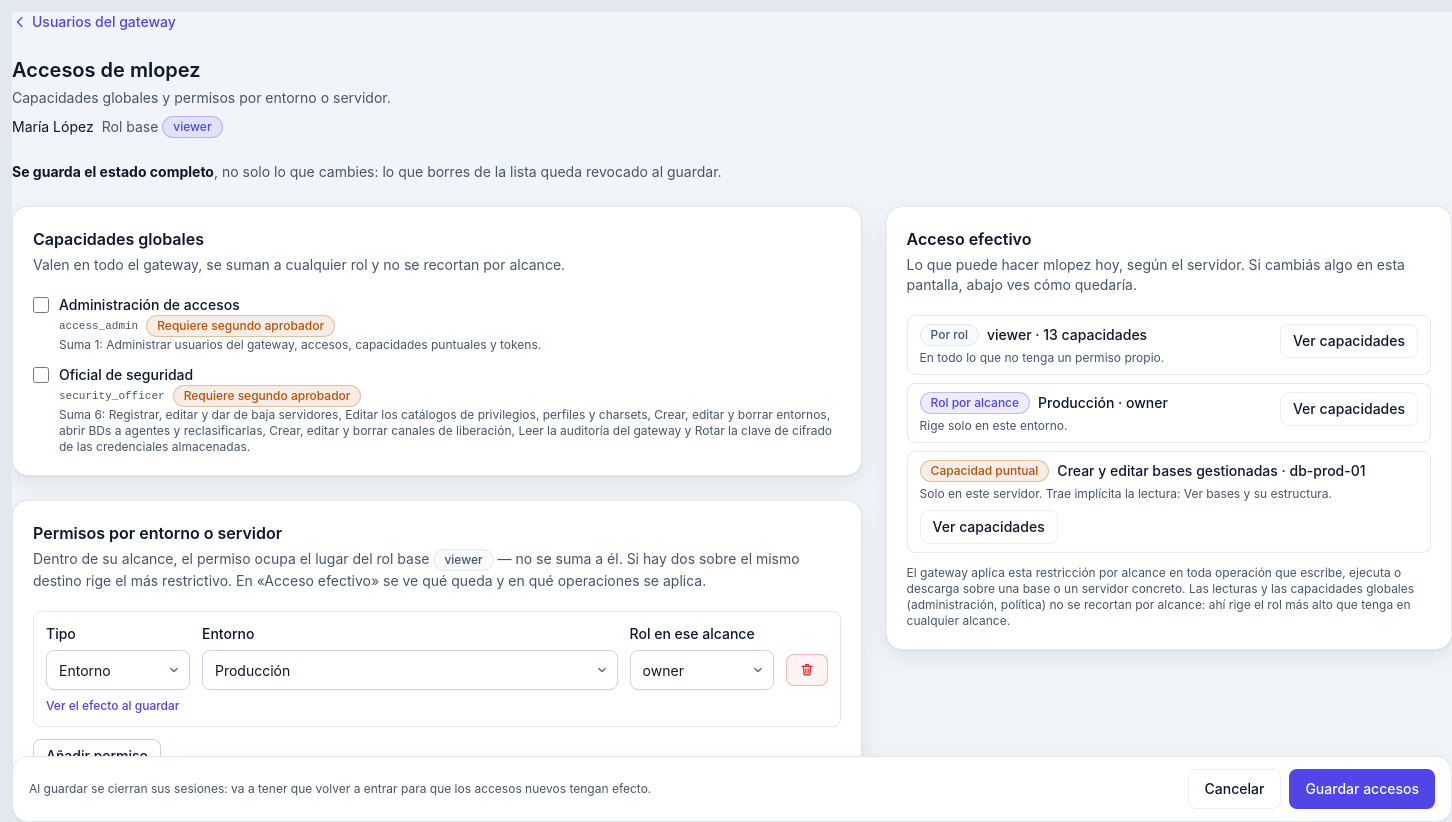
it: GatewayUserAccessPage — separación de funciones › avisa ANTES de guardar si la combinación junta oficial de seguridad con owner
expect the text "Esta combinación viola la separación de funciones" is not shown: met
Step 1. Click the checkbox labelled "Oficial de seguridad" → (41, 375), box x1=33 y1=367 x2=49 y2=383
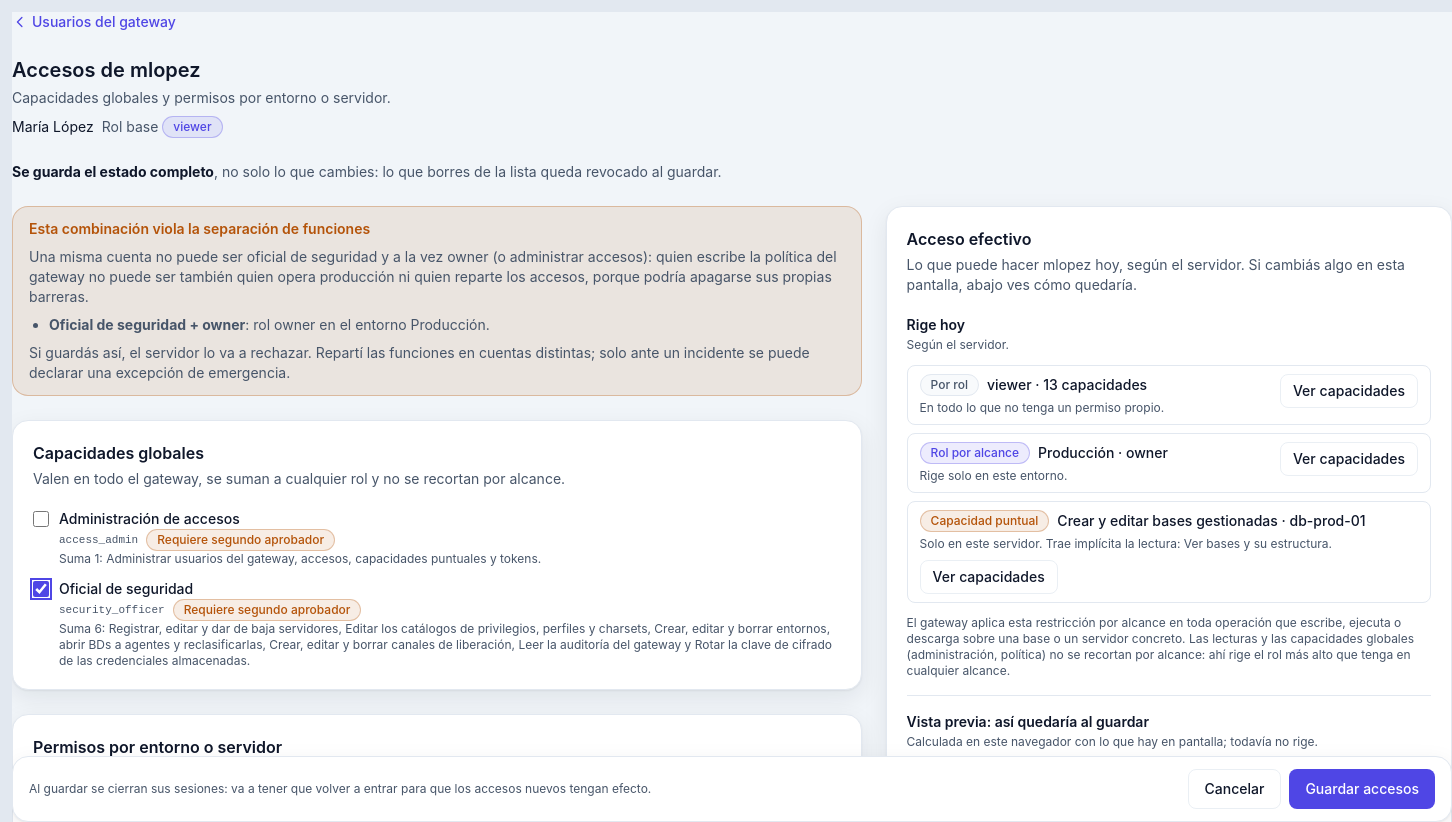
expect the text "Esta combinación viola la separación de funciones" is shown: met, box x1=29 y1=220 x2=370 y2=237
expect the list item "rol owner en el entorno Producción" is shown: met, box x1=253 y1=316 x2=486 y2=333
# Destildarla saca el aviso: no queda nada que separar.
Step 2. Click the checkbox labelled "Oficial de seguridad" → (41, 589), box x1=33 y1=581 x2=49 y2=597
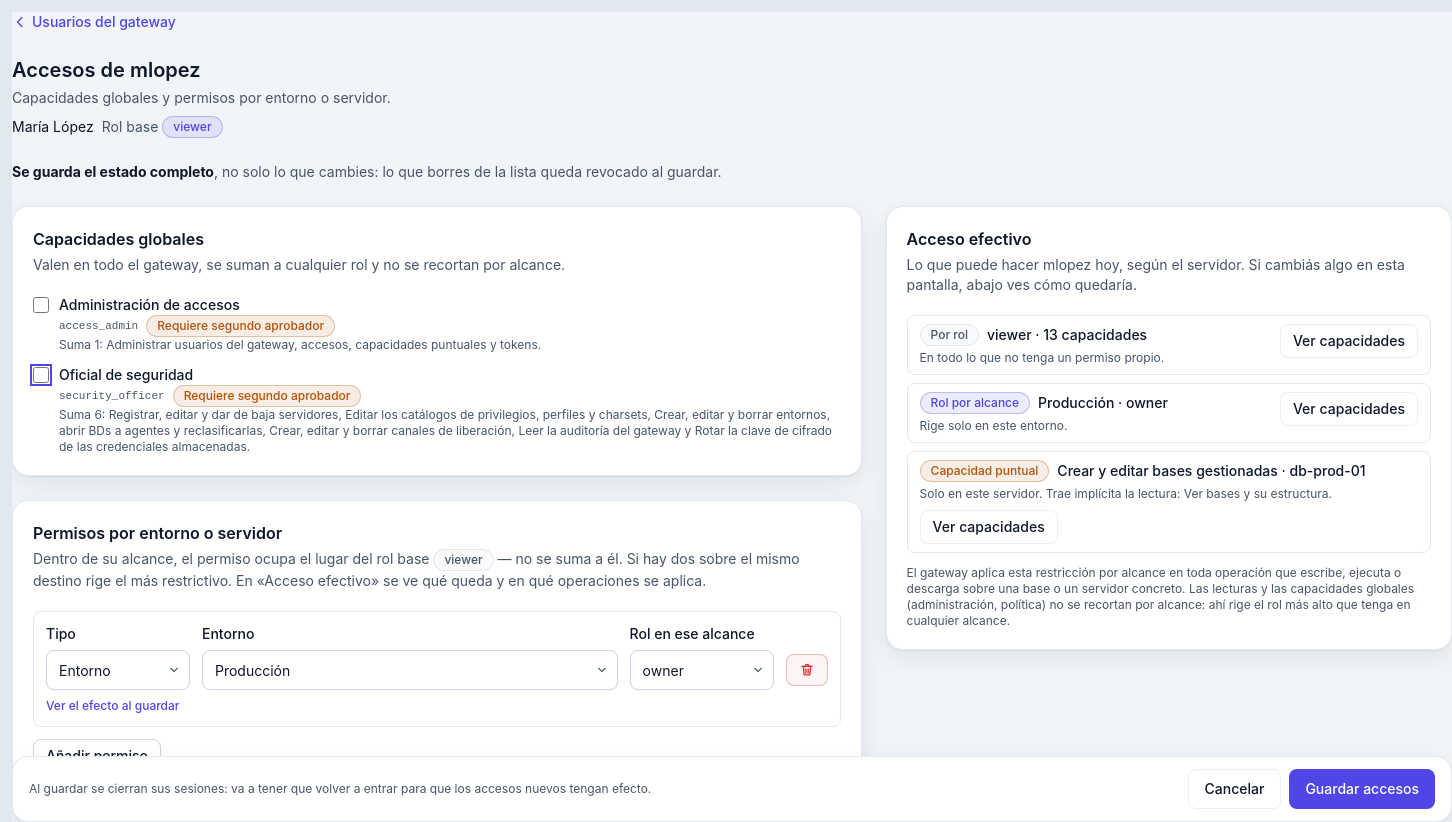
expect the text "Esta combinación viola la separación de funciones" is gone: met
